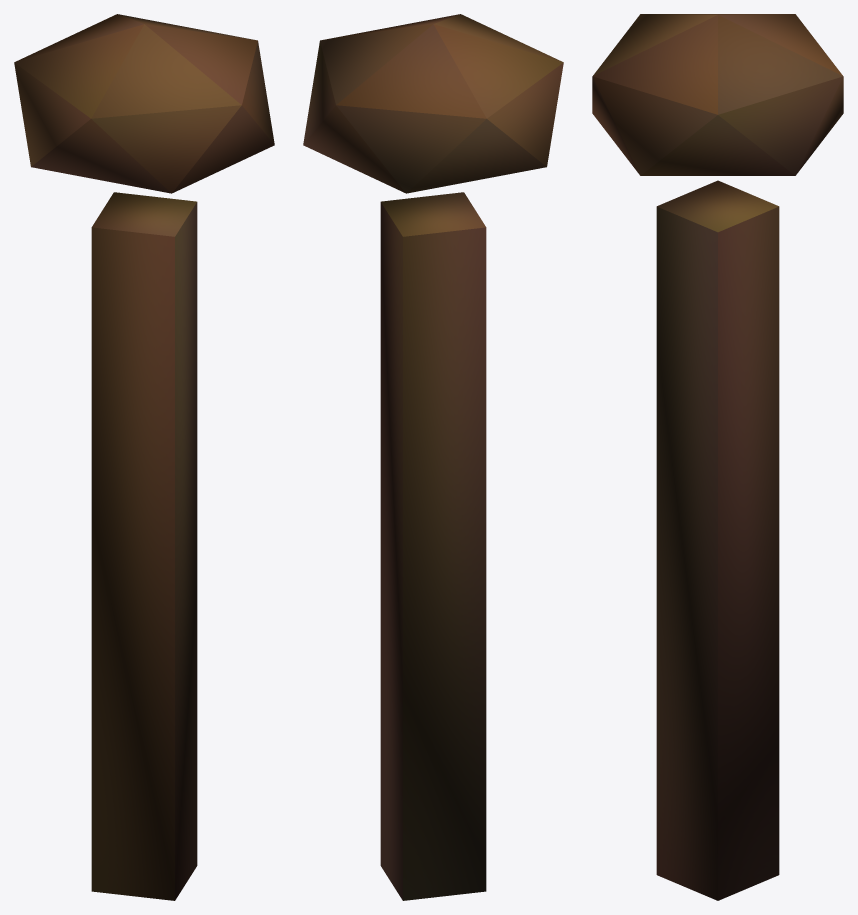
The model's file is prop_bk_foret_broceliande_0002.glb.
3 views of the same model, side by side, from view 1: azimuth 30°, elevation 25°; view 2: azimuth 150°, elevation 25°; view 3: azimuth 270°, elevation 25° (orthographic).
Visible parts, largest first — view 1: prop_bk_002; view 2: prop_bk_002; view 3: prop_bk_002.
Part boxes in pixels (x1,y1,x2,y2): prop_bk_002: (14, 14, 274, 900); prop_bk_002: (303, 14, 563, 900); prop_bk_002: (592, 14, 843, 900).
Bounding box in the file's own units: 0.1073 × 0.386 × 0.1021.
